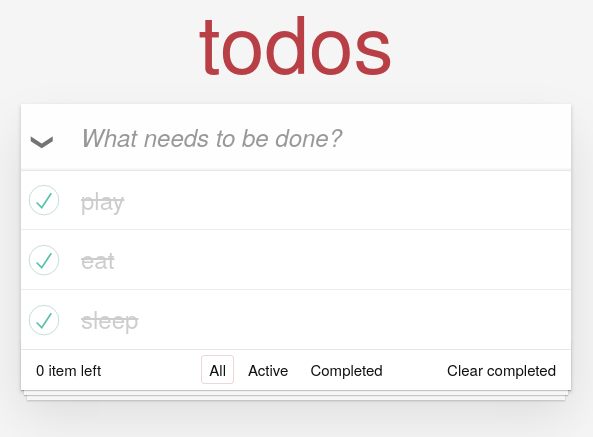
it: 切换所有任务的完成状态 › 取消选中切换所有按钮，所有的任务应该变成未完成
This screenshot has width=593, height=437.
Click the checkbox with test id "toggle-all": point(38, 136) [21, 106, 55, 166]
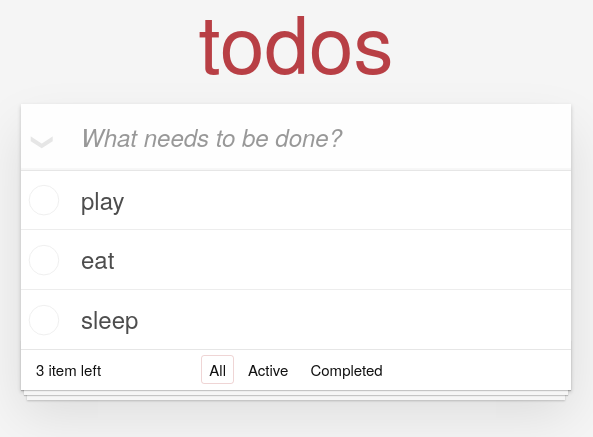
Expected: the checkbox with test id "todo-done" is not checked, [21, 171, 571, 229]
